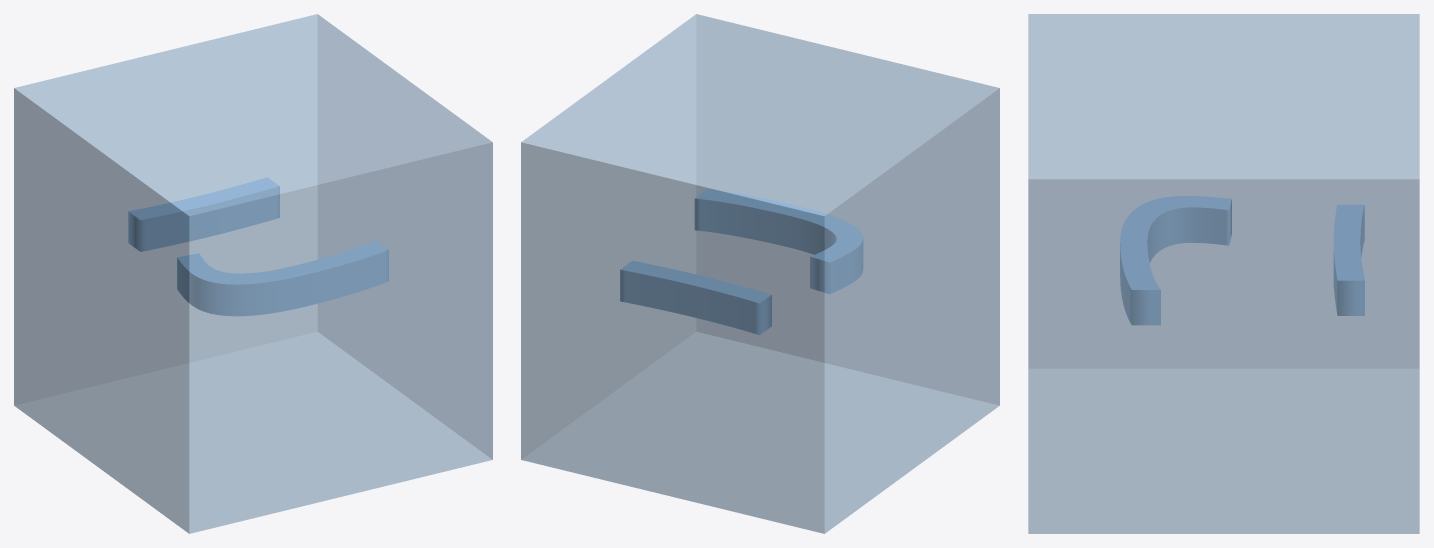
Rendered from Title_Ice1.obj.
The picture shows the model from 3 angles, left to right: view 1: azimuth 30°, elevation 25°; view 2: azimuth 150°, elevation 25°; view 3: azimuth 270°, elevation 25°; orthographic projection. The views are drawn at different scales.
Parts seen in each view (by area): view 1: 1.こ; view 2: 1.こ; view 3: 1.こ.
Part boxes in pixels (x1=…): 1.こ: x1=14, y1=14, x2=492, y2=533; 1.こ: x1=521, y1=14, x2=999, y2=533; 1.こ: x1=1028, y1=14, x2=1419, y2=533.
Bounding box in the file's own units: 2 × 2 × 2.
Materials: 1 (1 with a texture image).
